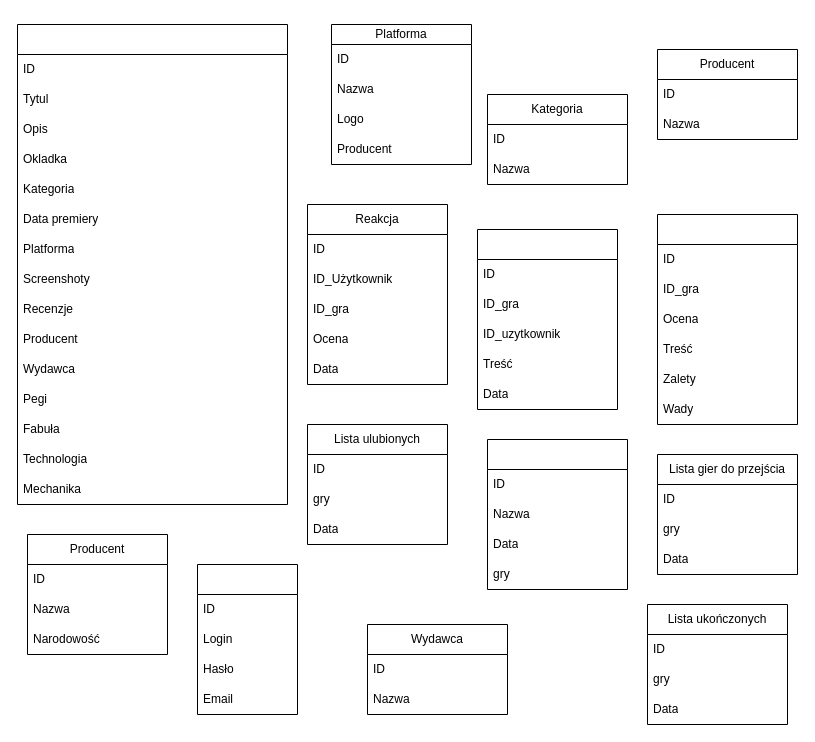
This 815x742 diagram has some shape labels left out. Each missing label, with the box of its shape:
Gra: (16, 24, 288, 504)
Komentarze: (476, 228, 618, 410)
Lista własna: (486, 438, 628, 590)
Recenzja: (656, 214, 798, 424)
Użytkownicy: (196, 564, 298, 714)
